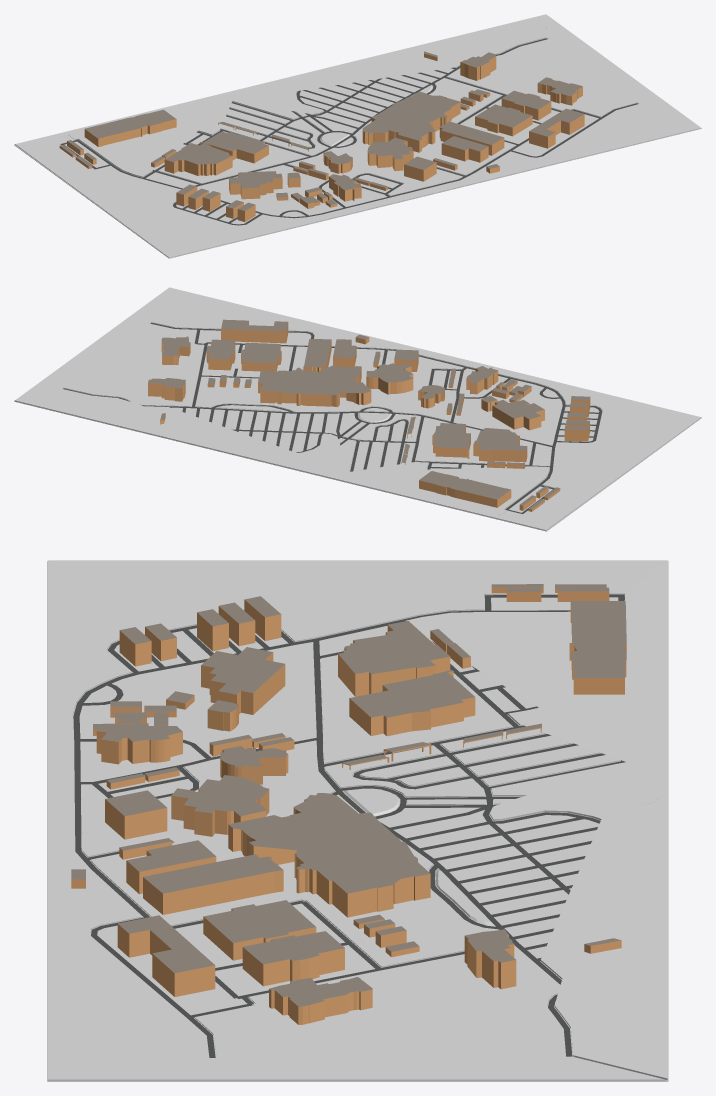
The model's file is mapOutlineV1 (1).fbx.
3 views of the same model, one above another, from view 1: azimuth 30°, elevation 25°; view 2: azimuth 150°, elevation 25°; view 3: azimuth 270°, elevation 25° (orthographic). The views are drawn at different scales.
Parts seen in each view (by area): view 1: ground, roofs, walls, roads; view 2: ground, roofs, walls, roads; view 3: ground, roofs, walls, roads.
Boxes of the visible parts, x1=… form: ground: x1=14, y1=14, x2=701, y2=258; roofs: x1=60, y1=51, x2=583, y2=210; walls: x1=59, y1=53, x2=584, y2=221; roads: x1=60, y1=38, x2=637, y2=225; ground: x1=14, y1=287, x2=701, y2=531; roofs: x1=148, y1=319, x2=589, y2=509; walls: x1=148, y1=321, x2=590, y2=511; roads: x1=63, y1=323, x2=602, y2=513; ground: x1=47, y1=560, x2=668, y2=1081; roofs: x1=71, y1=584, x2=626, y2=1006; walls: x1=71, y1=587, x2=626, y2=1024; roads: x1=73, y1=594, x2=624, y2=1057.
Bounding box in the file's own units: 79251 × 2038 × 40005.
